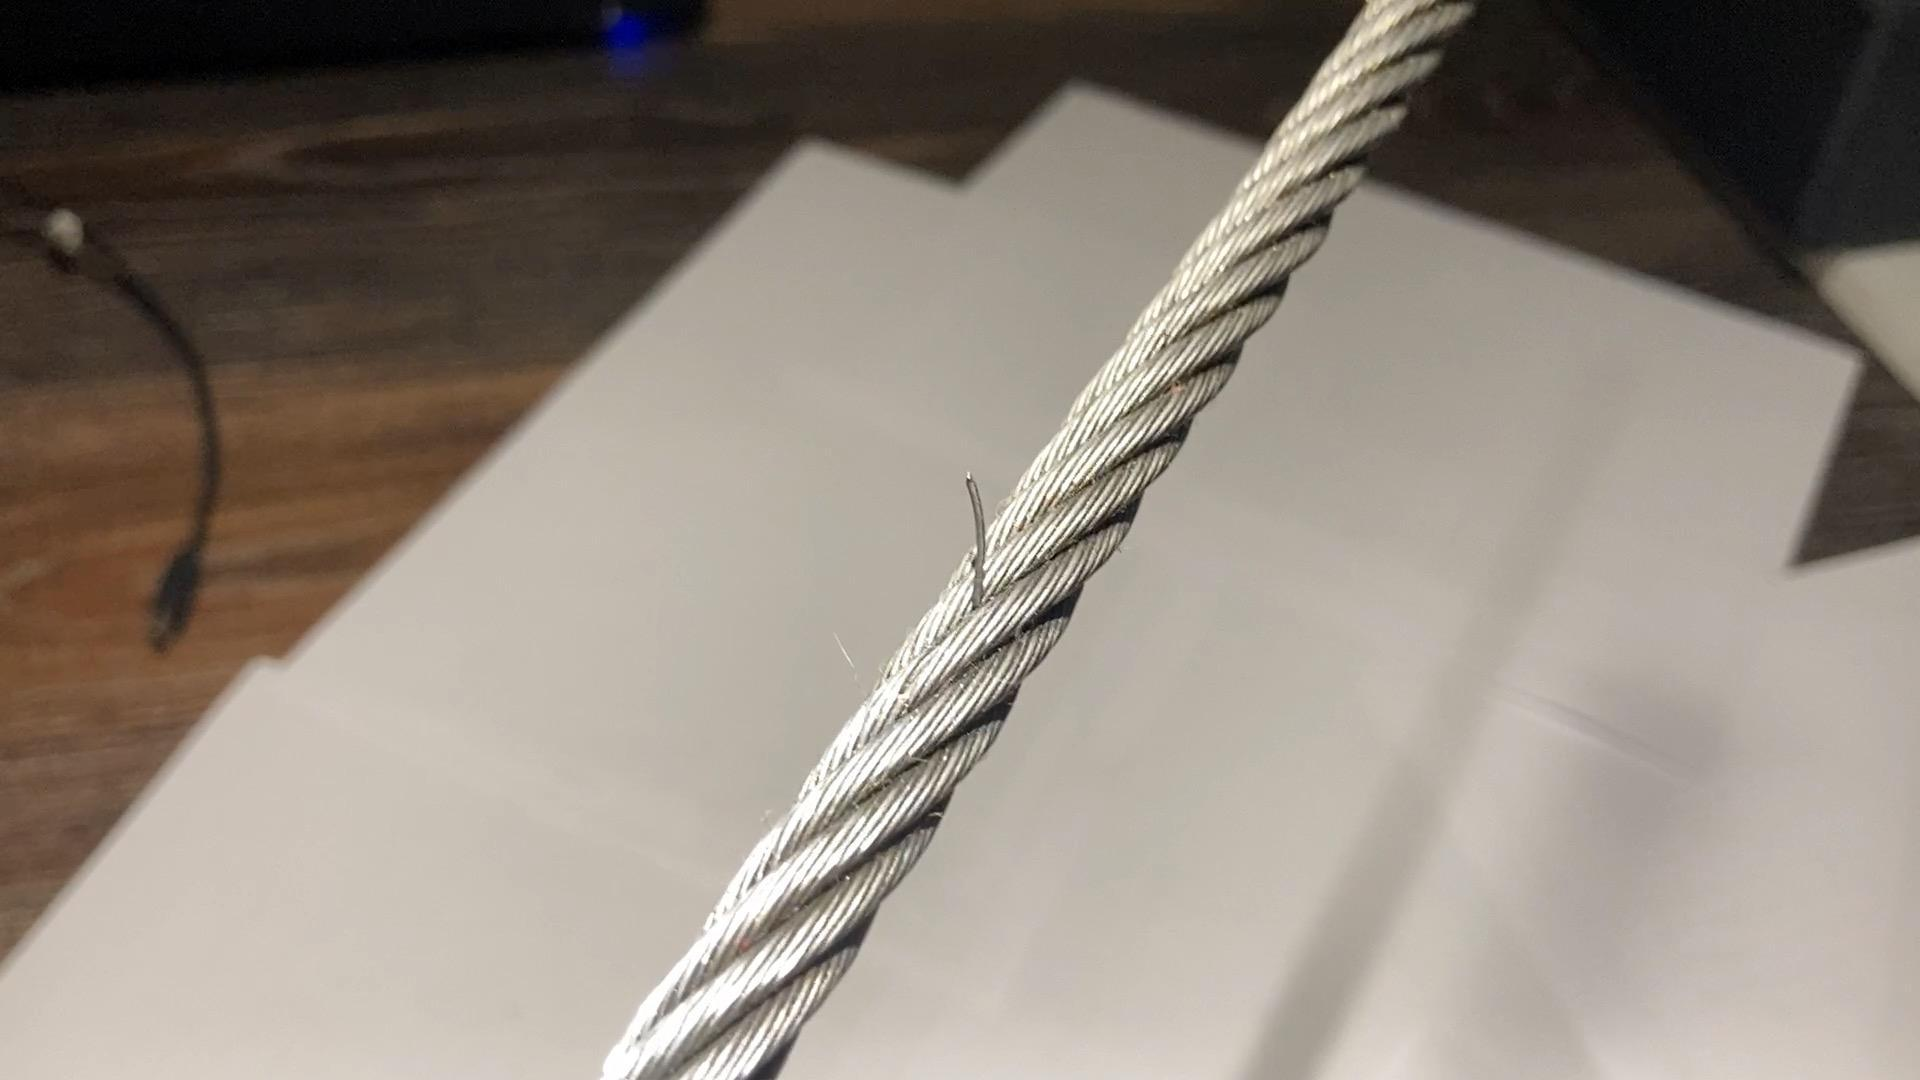break: (938, 460, 1007, 604)
